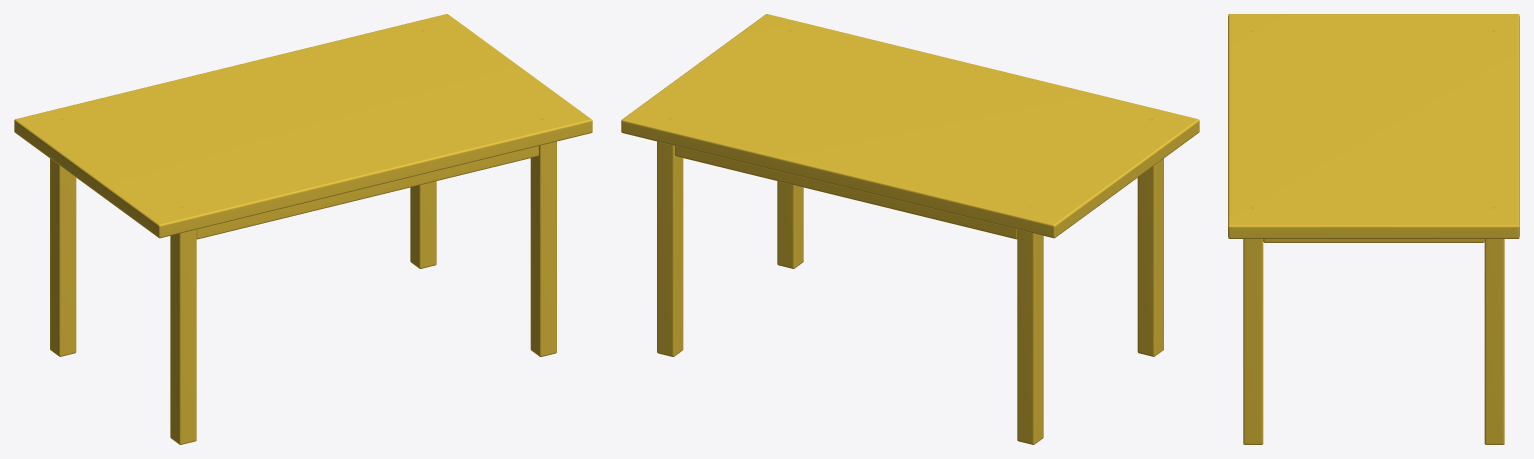
File: Table.fbx
The picture shows the model from 3 angles, left to right: view 1: azimuth 30°, elevation 25°; view 2: azimuth 150°, elevation 25°; view 3: azimuth 270°, elevation 25°; orthographic projection.
Parts seen in each view (by area): view 1: Tavolino; view 2: Tavolino; view 3: Tavolino.
Boxes of the visible parts, <box> form: Tavolino: <box>14,14,592,444</box>; Tavolino: <box>621,14,1199,444</box>; Tavolino: <box>1228,14,1519,444</box>.
Size of the model in its own units: 200 by 103 by 116.
